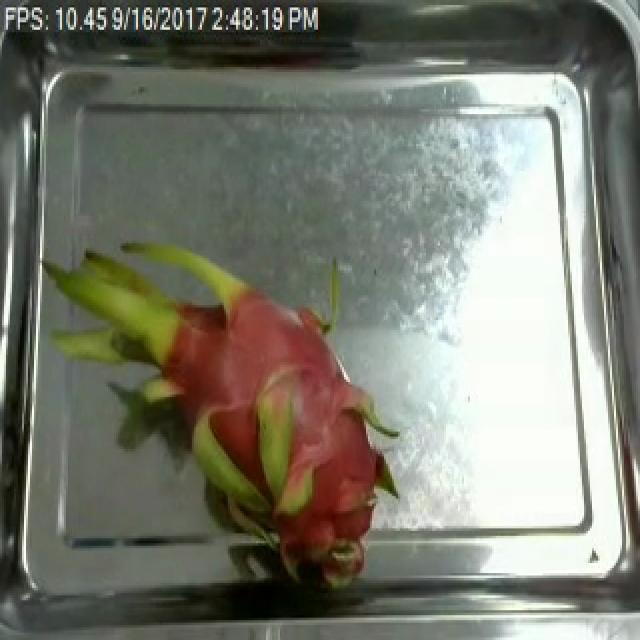fruit: (40, 211, 418, 610)
